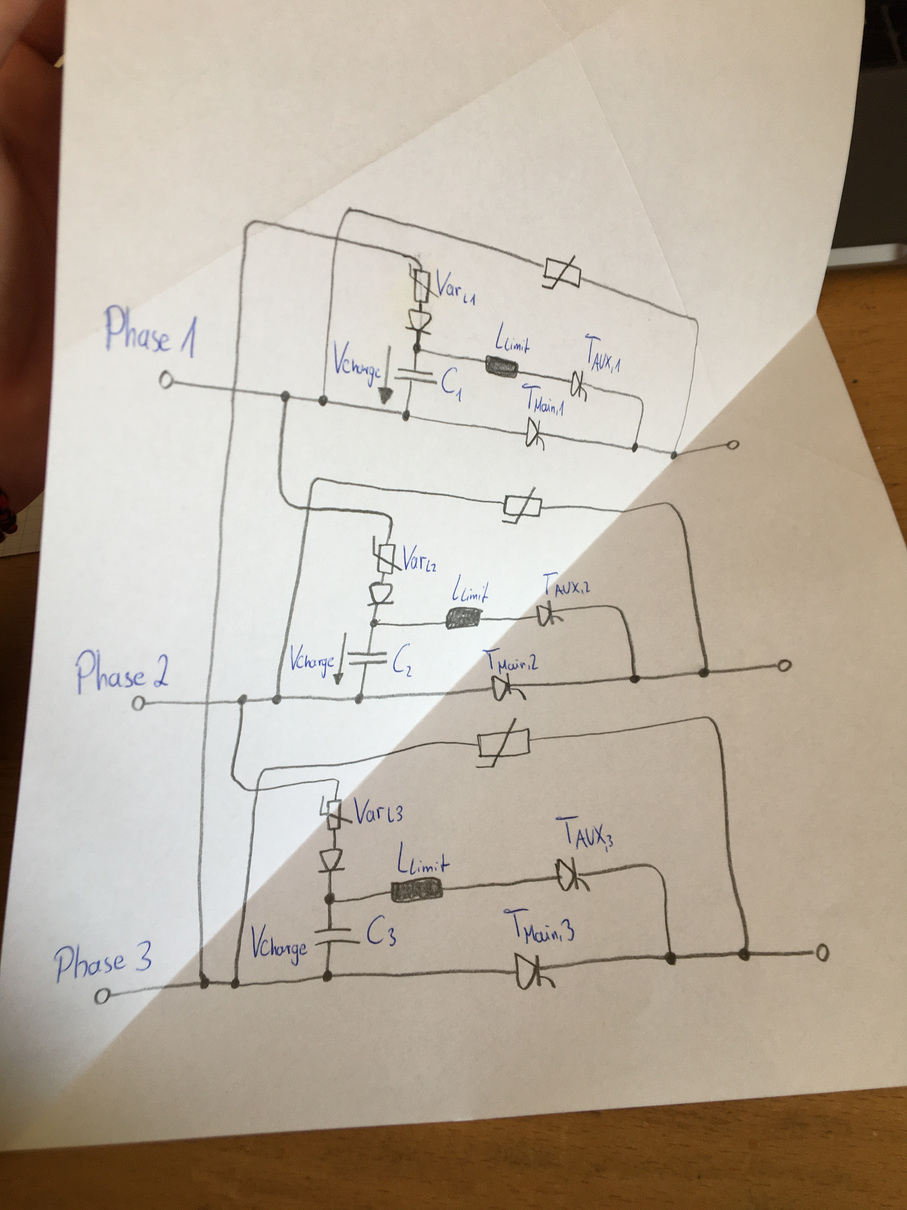capacitor.unpolarized: (312, 926, 362, 948), (392, 366, 439, 386), (346, 650, 389, 668)
crossover: (302, 502, 316, 515), (227, 383, 241, 396), (331, 232, 343, 245), (201, 698, 214, 709), (252, 786, 263, 795)
diode: (316, 846, 347, 876), (365, 580, 396, 609), (403, 307, 433, 336)
inductor: (389, 875, 445, 904), (444, 605, 484, 632), (483, 353, 521, 380)
junction: (646, 862, 668, 883), (663, 499, 684, 520), (228, 773, 248, 793), (702, 714, 721, 732), (606, 602, 626, 619), (196, 971, 211, 991), (242, 218, 259, 235), (278, 491, 294, 509), (342, 206, 359, 222), (309, 475, 325, 491), (322, 891, 338, 907), (663, 950, 678, 967), (737, 946, 752, 962), (407, 252, 424, 266), (257, 764, 271, 780), (321, 968, 334, 984), (353, 690, 366, 706), (278, 389, 292, 403), (235, 693, 250, 706), (697, 666, 712, 679), (400, 408, 413, 423), (628, 672, 642, 685), (411, 341, 423, 356), (317, 393, 329, 408), (271, 693, 284, 706), (229, 976, 241, 990), (690, 316, 702, 330), (368, 617, 382, 629), (635, 394, 646, 409), (383, 511, 395, 524), (630, 441, 640, 454), (668, 449, 679, 460), (332, 776, 342, 784)
terminal: (810, 941, 832, 963), (156, 368, 176, 392), (93, 986, 113, 1006), (129, 693, 148, 713), (774, 658, 794, 674), (724, 438, 741, 452)
text: (102, 302, 198, 362), (73, 646, 171, 697), (52, 938, 154, 984), (502, 907, 576, 946), (249, 922, 309, 968), (553, 813, 614, 854), (332, 339, 382, 388), (396, 839, 451, 876), (435, 266, 478, 308), (481, 646, 540, 676), (289, 642, 335, 679), (584, 332, 622, 375), (522, 381, 566, 417), (541, 569, 592, 599), (353, 796, 404, 825), (451, 572, 491, 605), (494, 320, 530, 356), (365, 913, 398, 949), (403, 544, 438, 575), (391, 641, 415, 679), (440, 365, 463, 404)
thyristor: (513, 951, 557, 991), (555, 856, 591, 891), (489, 672, 527, 702), (535, 600, 564, 627), (524, 417, 546, 447), (569, 370, 589, 398)
varistor: (474, 716, 532, 770), (500, 485, 544, 526), (541, 254, 582, 290), (408, 262, 440, 305), (318, 794, 354, 832), (371, 534, 403, 575)
